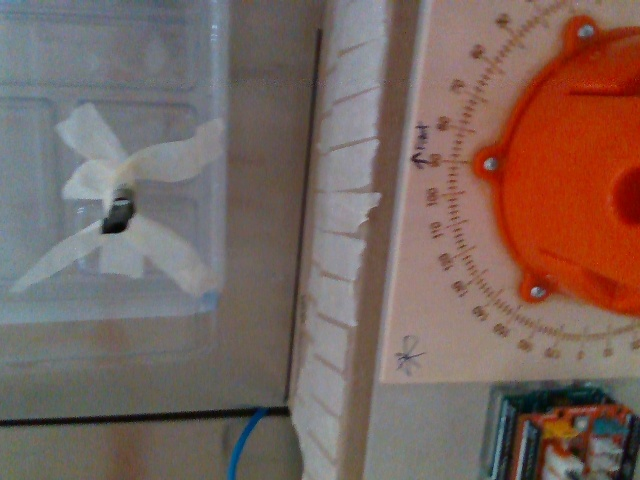test_strip: (100, 198, 132, 233)
